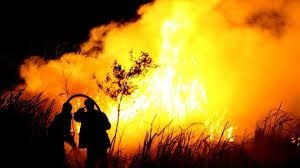fire: (66, 1, 282, 145)
